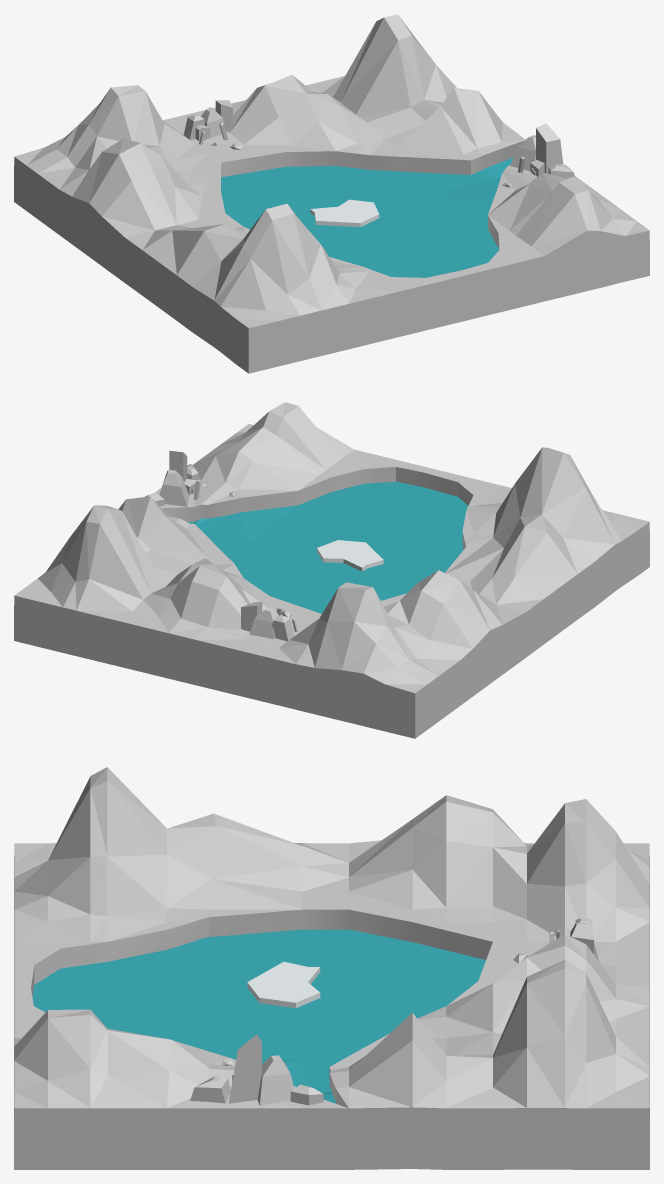
The model's file is environment-future2.glb.
3 views of the same model, one above another, from view 1: azimuth 30°, elevation 25°; view 2: azimuth 150°, elevation 25°; view 3: azimuth 270°, elevation 25° (orthographic). The views are drawn at different scales.
Visible parts, largest first — view 1: AE_Future, Single_ice_geo, pCube10, pCube9; view 2: AE_Future, Single_ice_geo, pCube9, pCube2; view 3: AE_Future, Single_ice_geo, pCube10, pCube9, pCube15.
Part boxes in pixels (x1,y1,x2,y2): AE_Future: (14,14,649,373); Single_ice_geo: (310,199,379,226); pCube10: (536,123,563,173); pCube9: (510,135,536,170); AE_Future: (14,402,649,738); Single_ice_geo: (317,540,383,571); pCube9: (159,469,189,506); pCube2: (249,607,278,639); AE_Future: (14,767,649,1169); Single_ice_geo: (247,962,320,1008); pCube10: (228,1034,261,1103); pCube9: (257,1055,294,1105); pCube15: (190,1076,230,1103).
Bounding box in the file's own units: 51.72 × 15.65 × 52.42.
Materials: 8 (8 with a texture image).
